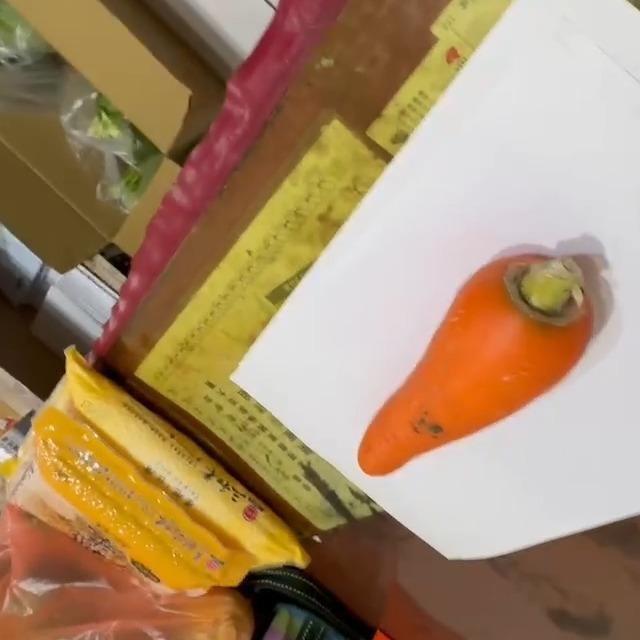carrot: (355, 252, 601, 480)
